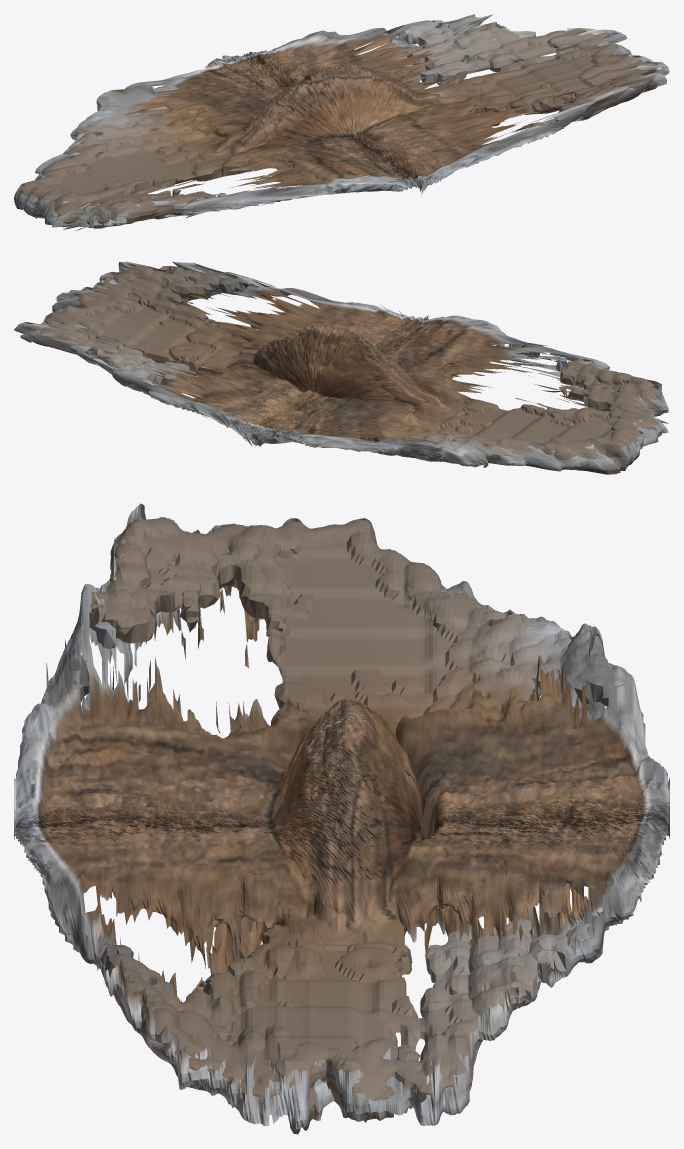
Rendered from volume2_mesh.glb.
3 views of the same model, one above another, from view 1: azimuth 30°, elevation 25°; view 2: azimuth 150°, elevation 25°; view 3: azimuth 270°, elevation 25° (orthographic). The views are drawn at different scales.
Parts seen in each view (by area): view 1: ipn, fill; view 2: ipn, fill; view 3: ipn, fill.
Boxes of the visible parts, x1,y1,x2,y2 form: ipn: (14,14,669,230); fill: (18,21,658,228); ipn: (14,261,668,474); fill: (32,265,661,472); ipn: (14,503,669,1134); fill: (26,518,661,1120).
Size of the model in its own units: 1.99 by 0.3497 by 0.9423.
2 materials, 1 textured.
